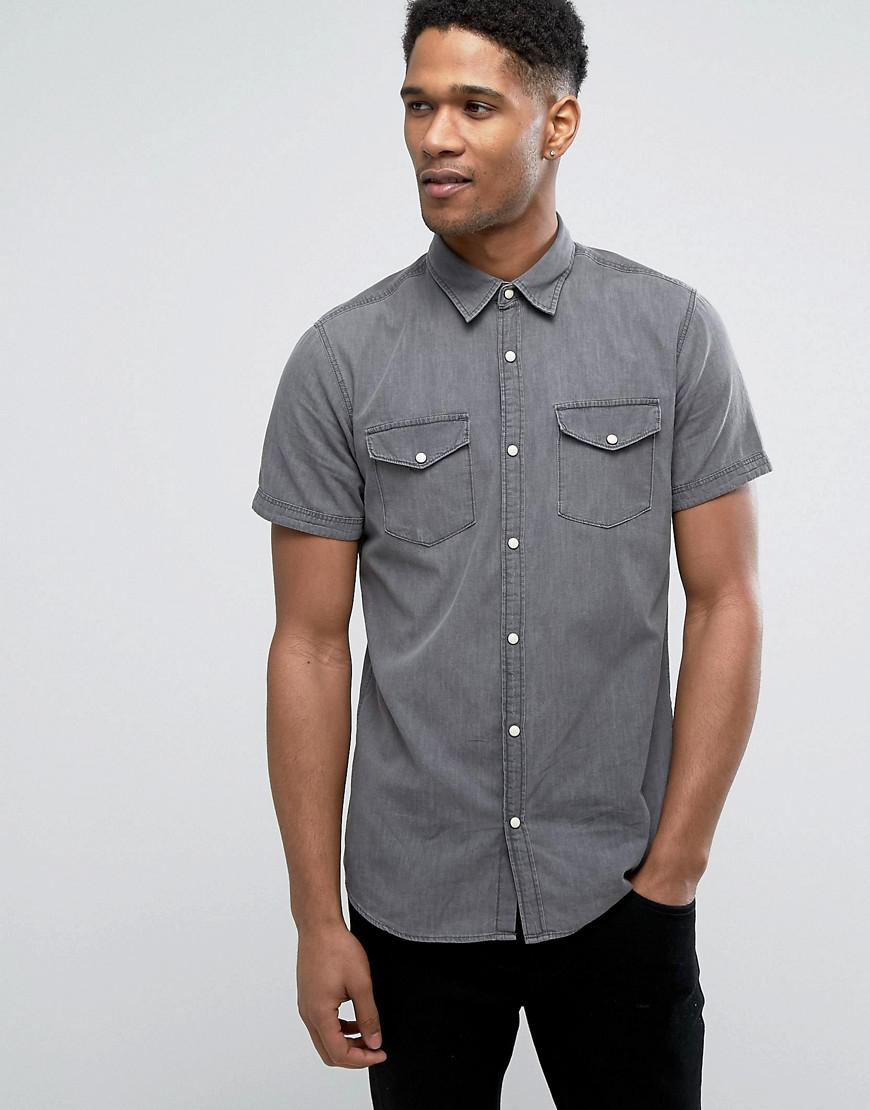teeshirt: (257, 227, 781, 954)
